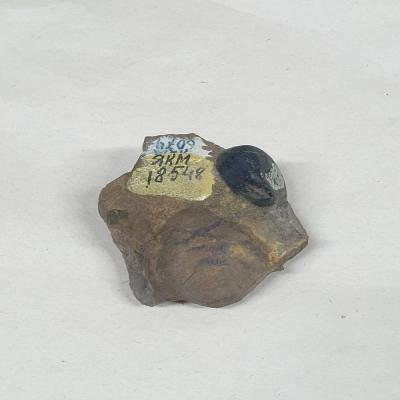mineralogy: (97, 133, 309, 310)
